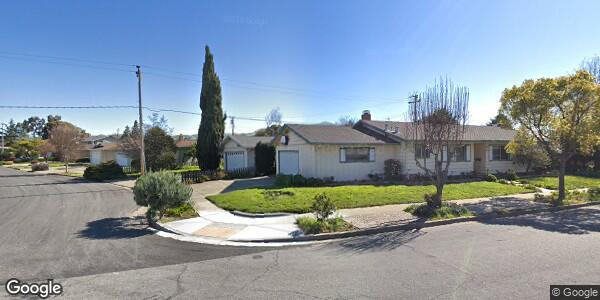Wood_Pole: (131, 63, 148, 175)
